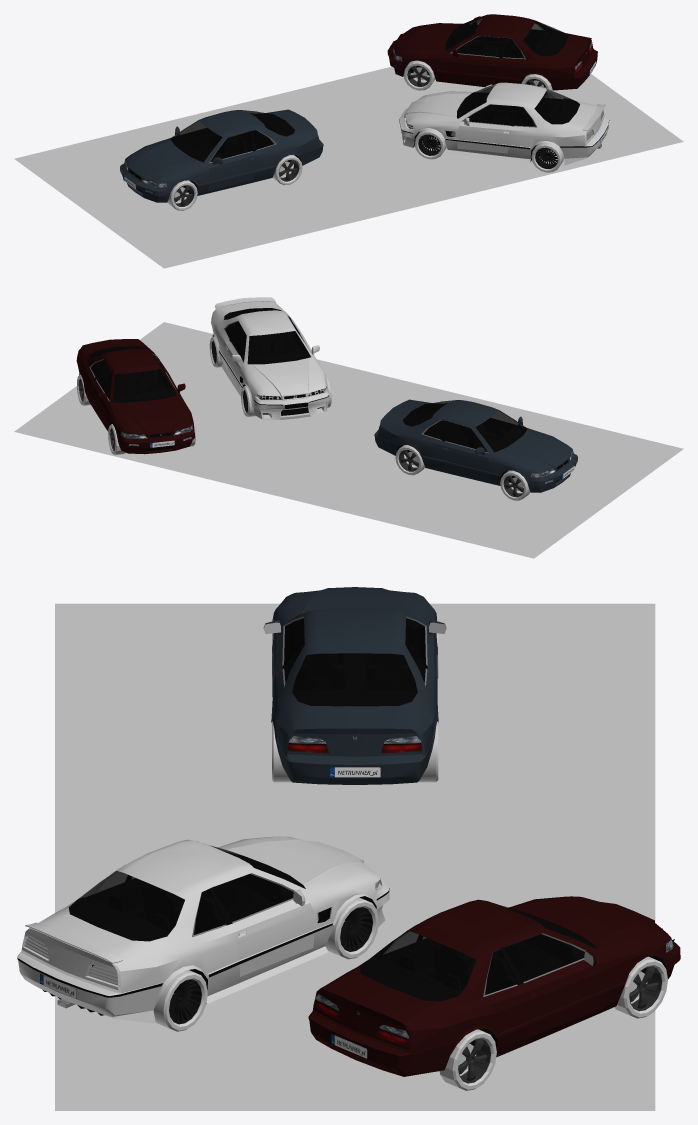
The model's file is legend.obj.
3 renders of one model, top to bottom at view 1: azimuth 30°, elevation 25°; view 2: azimuth 150°, elevation 25°; view 3: azimuth 270°, elevation 25°, orthographic. The views are drawn at different scales.
Parts seen in each view (by area): view 1: Plane_Plane.013, Legend_tuned_Cube.089, Legend_Cube.040, Legend_flat_Cube.082, legend_interior.002_Cube.091, legend_interior.001_Cube.084, legend_interior_Cube.042, legend_wheels.002_Cube.094, legend_rims.002_Cylinder.028, legend_wheels_Cube.045, legend_rims_Cylinder.011, legend_wheels.001_Cube.087 (+3 smaller); view 2: Plane_Plane.013, Legend_Cube.040, Legend_tuned_Cube.089, Legend_flat_Cube.082, legend_interior_Cube.042, legend_interior.002_Cube.091, legend_interior.001_Cube.084, legend_front_seats.001_Cube.083, legend_front_seats.002_Cube.090, legend_wheels_Cube.045, legend_rims_Cylinder.011, legend_front_seats_Cube.041 (+5 smaller); view 3: Plane_Plane.013, Legend_tuned_Cube.089, Legend_flat_Cube.082, Legend_Cube.040, legend_interior.001_Cube.084, legend_interior.002_Cube.091, legend_interior_Cube.042, legend_wheels.002_Cube.094, legend_front_seats_Cube.041, legend_wheels.001_Cube.087, legend_rims.002_Cylinder.028, legend_rims.001_Cylinder.026 (+7 smaller).
Part boxes in pixels (box(x1,y1,x2,y2)): Plane_Plane.013: box(14, 66, 683, 268); Legend_tuned_Cube.089: box(399, 82, 609, 165); Legend_Cube.040: box(120, 109, 323, 202); Legend_flat_Cube.082: box(387, 14, 597, 90); legend_interior.002_Cube.091: box(457, 92, 579, 127); legend_interior.001_Cube.084: box(445, 24, 568, 59); legend_interior_Cube.042: box(171, 113, 294, 162); legend_wheels.002_Cube.094: box(414, 129, 563, 172); legend_rims.002_Cylinder.028: box(418, 134, 557, 168); legend_wheels_Cube.045: box(167, 154, 302, 210); legend_rims_Cylinder.011: box(174, 160, 298, 206); legend_wheels.001_Cube.087: box(403, 60, 552, 97); Plane_Plane.013: box(14, 322, 683, 558); Legend_Cube.040: box(374, 399, 577, 492); Legend_tuned_Cube.089: box(211, 301, 329, 419); Legend_flat_Cube.082: box(76, 339, 195, 454); legend_interior_Cube.042: box(403, 403, 527, 452); legend_interior.002_Cube.091: box(224, 308, 310, 364); legend_interior.001_Cube.084: box(90, 346, 176, 402); legend_front_seats.001_Cube.083: box(103, 370, 161, 399); legend_front_seats.002_Cube.090: box(237, 332, 295, 361); legend_wheels_Cube.045: box(395, 445, 530, 500); legend_rims_Cylinder.011: box(398, 450, 523, 497); legend_front_seats_Cube.041: box(449, 423, 496, 448); Plane_Plane.013: box(55, 603, 655, 1110); Legend_tuned_Cube.089: box(17, 836, 389, 1023); Legend_flat_Cube.082: box(308, 896, 680, 1076); Legend_Cube.040: box(271, 587, 438, 784); legend_interior.001_Cube.084: box(360, 910, 596, 1001); legend_interior.002_Cube.091: box(69, 851, 305, 941); legend_interior_Cube.042: box(283, 618, 426, 706); legend_wheels.002_Cube.094: box(153, 897, 378, 1031); legend_front_seats_Cube.041: box(294, 653, 415, 689); legend_wheels.001_Cube.087: box(439, 956, 667, 1090); legend_rims.002_Cylinder.028: box(169, 907, 372, 1024); legend_rims.001_Cylinder.026: box(458, 966, 662, 1083).
Bounding box in the file's own units: 14.03 × 1.51 × 7.75.
